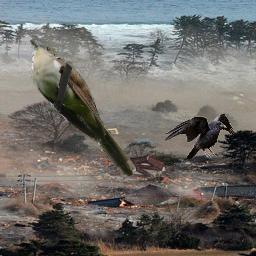Crow: (164, 113, 235, 159)
Cuckoo: (30, 39, 136, 177)
